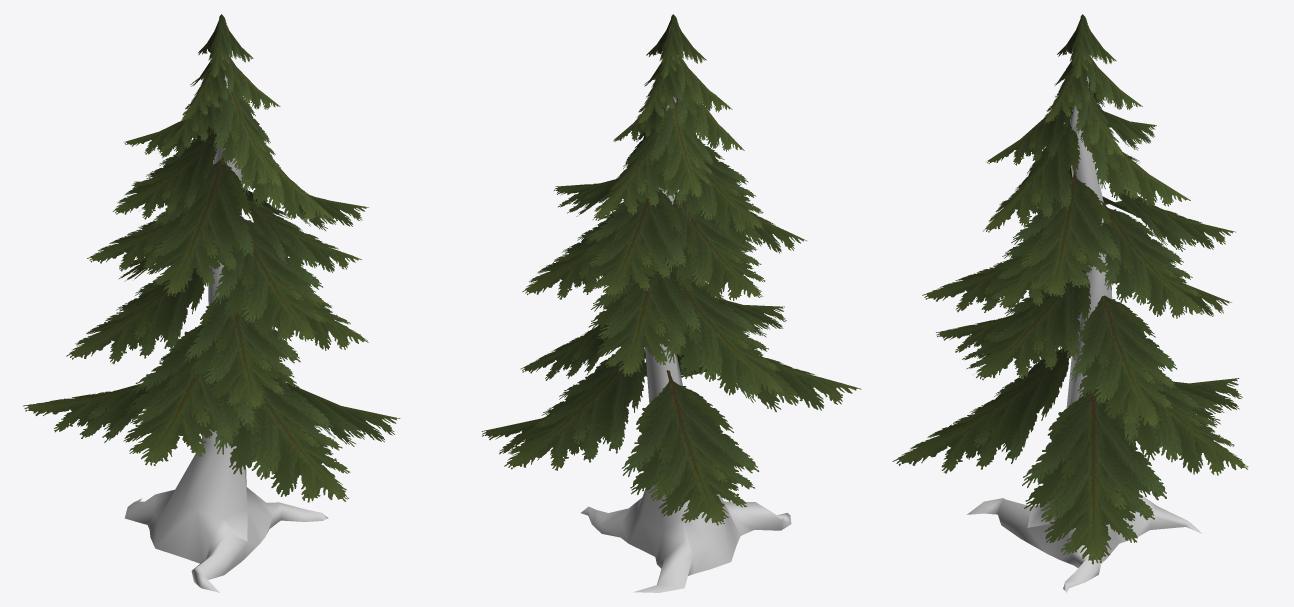
File: tree_1_2.fbx
The picture shows the model from 3 angles, left to right: view 1: azimuth 30°, elevation 25°; view 2: azimuth 150°, elevation 25°; view 3: azimuth 270°, elevation 25°; orthographic projection.
Visible parts, largest first — view 1: tree_1_2; view 2: tree_1_2; view 3: tree_1_2.
Boxes of the visible parts, bbox=[...] form: tree_1_2: bbox=[23, 14, 400, 592]; tree_1_2: bbox=[481, 14, 861, 592]; tree_1_2: bbox=[892, 14, 1248, 592].
Bounding box in the file's own units: 451 × 659 × 439.
